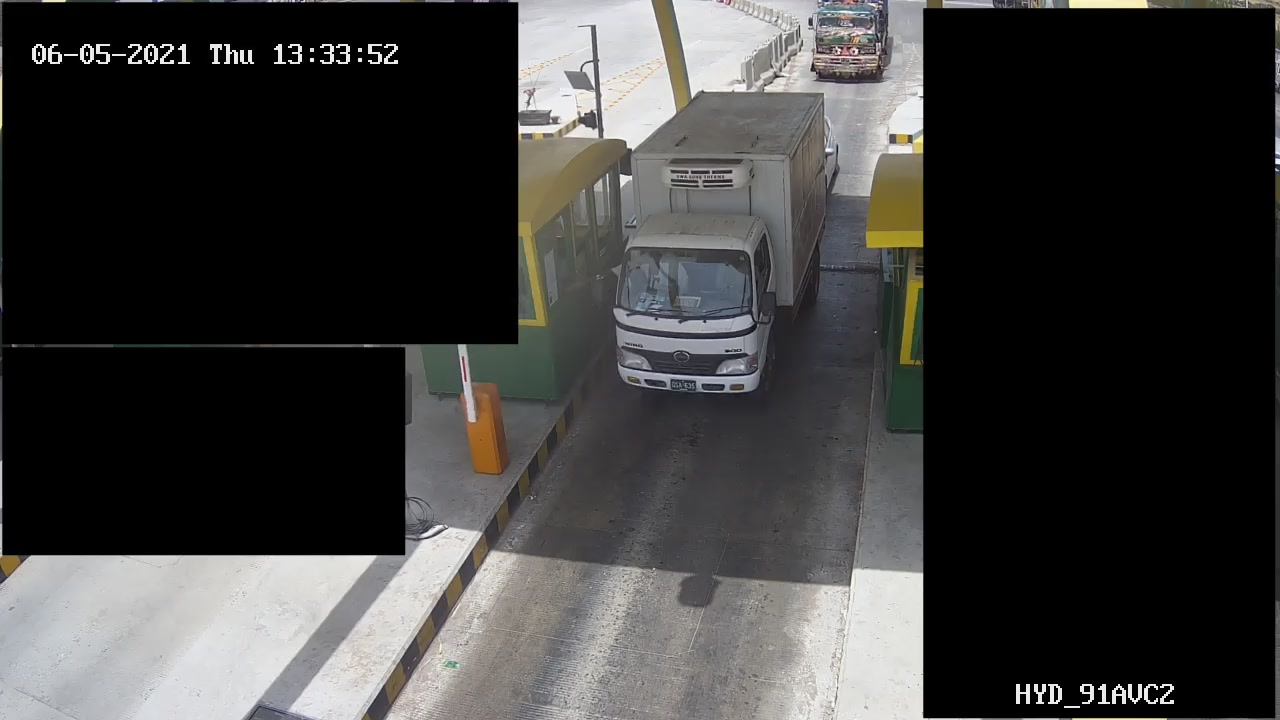F5: (602, 85, 845, 417)
